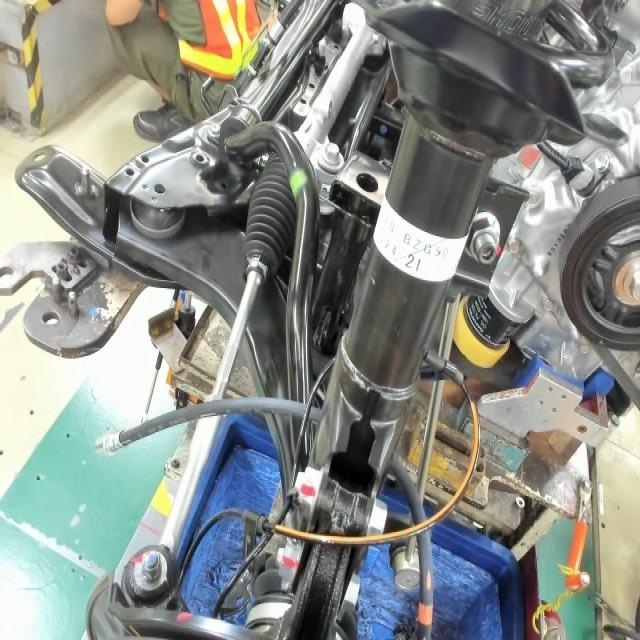Bar Stabilizer-HJ: (286, 163, 310, 201)
